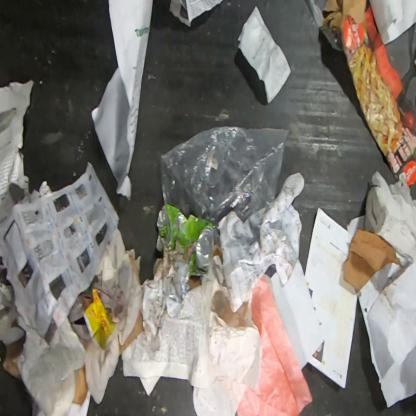cardboard: (322, 0, 416, 188), (343, 227, 403, 295)
metal: (155, 202, 215, 277)
soft_plastic: (160, 124, 290, 249)
